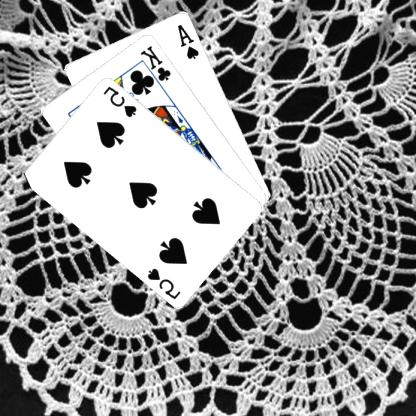5S: (102, 82, 140, 118), (146, 265, 184, 300)
AS: (177, 21, 202, 60)
KC: (139, 42, 174, 90)
